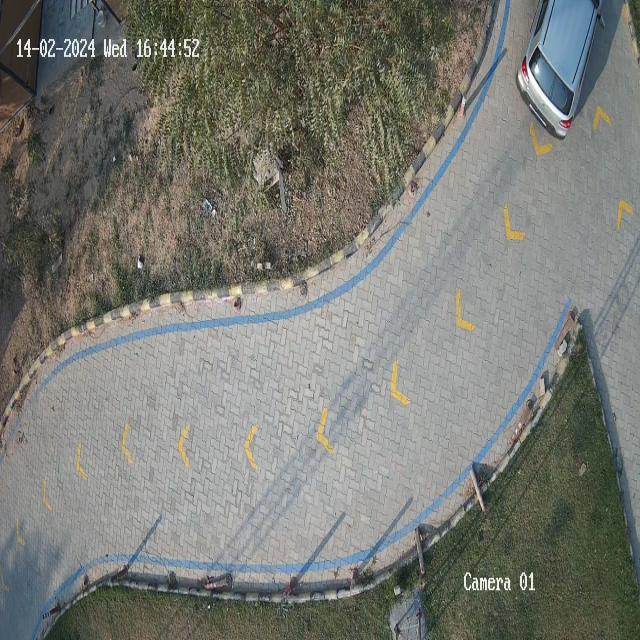car: (515, 0, 604, 140)
